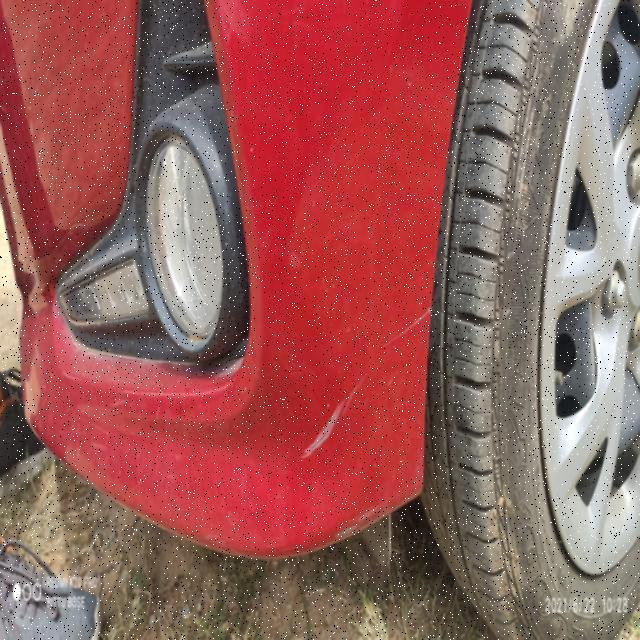front-bumper-dent: (118, 117, 446, 570)
